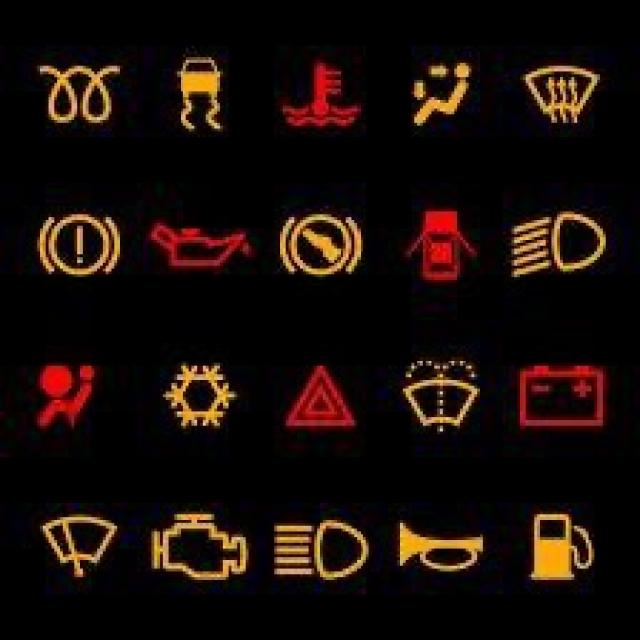kontrolka: (137, 507, 254, 594), (500, 203, 617, 287), (388, 351, 481, 452), (21, 197, 130, 283), (269, 362, 370, 449), (393, 201, 481, 298), (144, 212, 264, 283), (22, 54, 129, 132), (274, 52, 370, 138), (266, 512, 374, 585), (511, 357, 611, 434), (29, 504, 117, 589), (270, 208, 368, 284), (153, 356, 245, 434), (518, 504, 597, 593), (390, 514, 490, 584), (509, 57, 607, 124), (399, 53, 478, 131), (167, 52, 236, 140), (28, 354, 98, 434)
